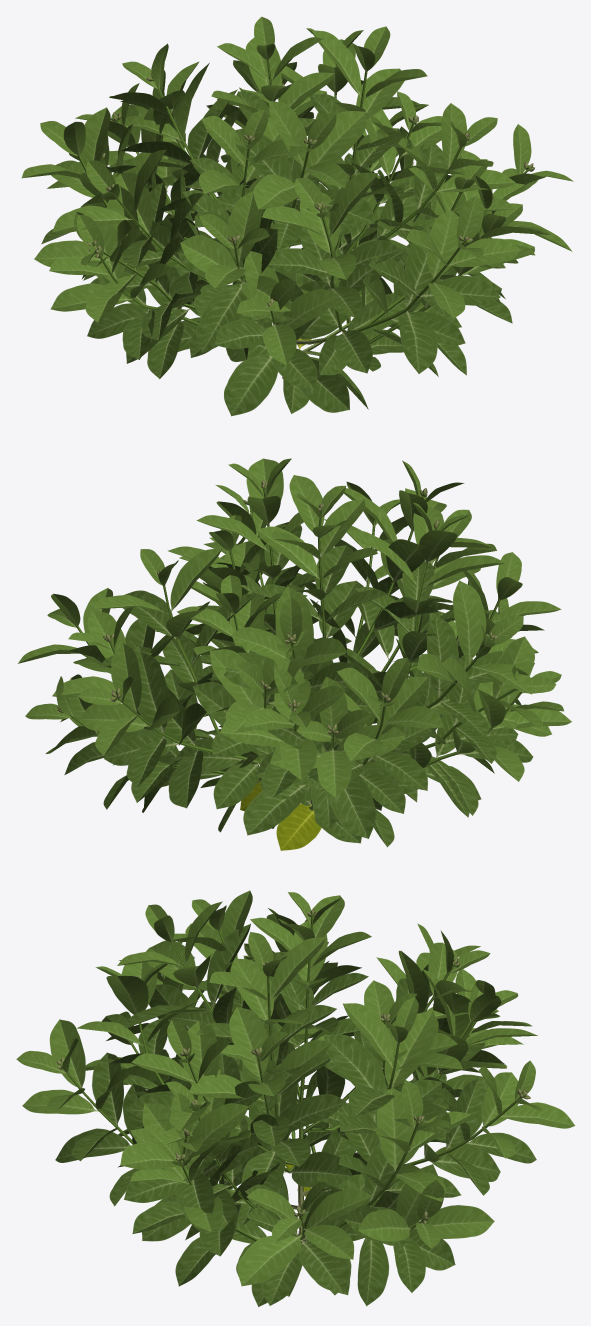
Rendered from geranium.glb.
3 renders of one model, top to bottom at view 1: azimuth 30°, elevation 25°; view 2: azimuth 150°, elevation 25°; view 3: azimuth 270°, elevation 25°, orthographic.
Parts seen in each view (by area): view 1: Ixora_chinensis_red_HD; view 2: Ixora_chinensis_red_HD; view 3: Ixora_chinensis_red_HD.
Boxes of the visible parts, box(x1,y1,x2,y2) form: Ixora_chinensis_red_HD: box(21, 16, 573, 416); Ixora_chinensis_red_HD: box(17, 458, 571, 850); Ixora_chinensis_red_HD: box(16, 890, 575, 1306).
Bounding box in the file's own units: 7.21 × 5 × 6.72.
Materials: 6 (6 with a texture image).
